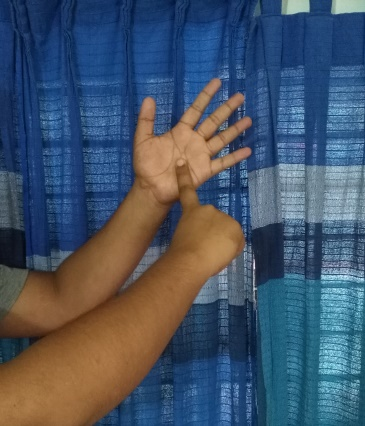oo: (132, 77, 252, 276)
